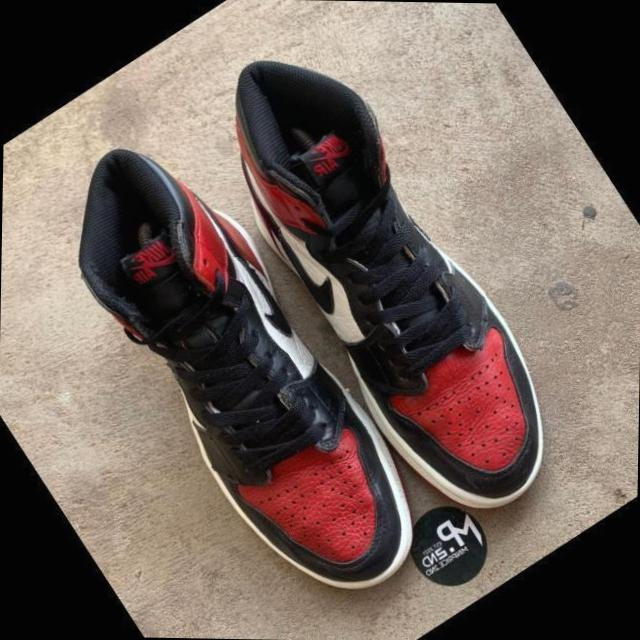nike_original_jordan: (20, 108, 462, 640), (168, 19, 607, 552)
